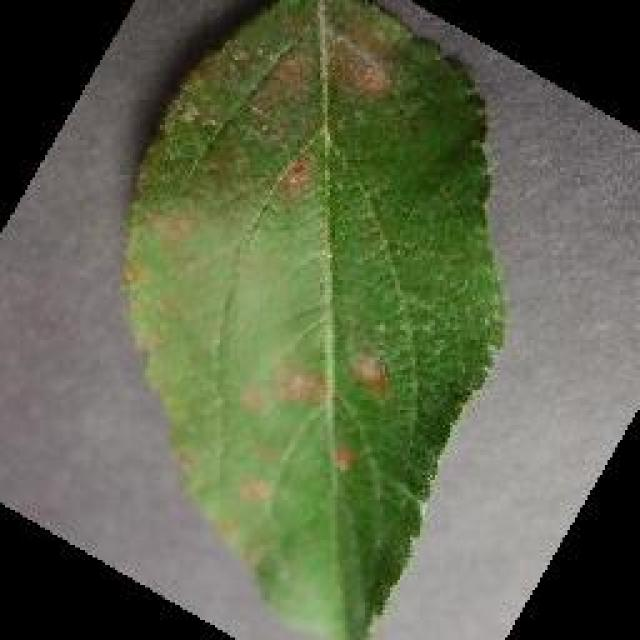apple scab disease: (115, 0, 507, 638)
